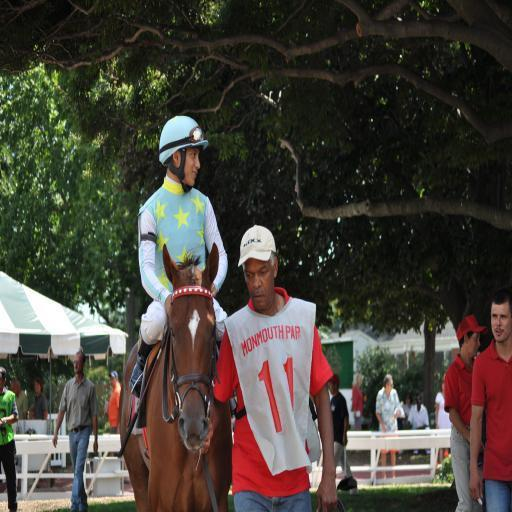horse: (118, 243, 235, 512)
